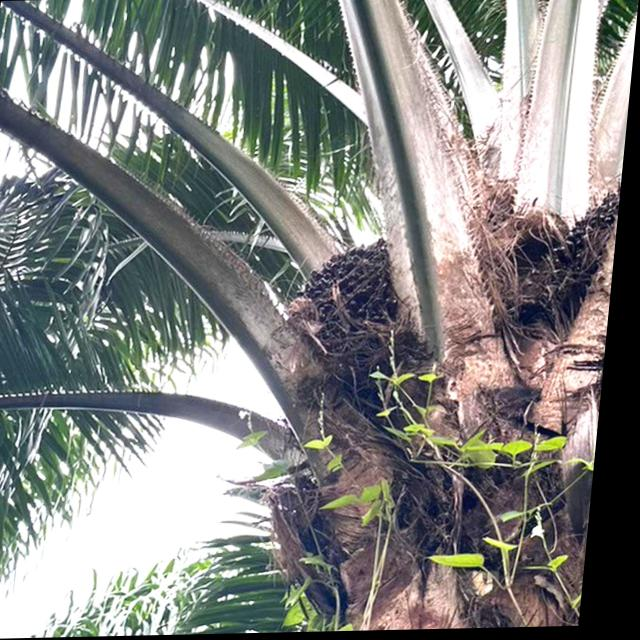ripe: (298, 232, 414, 344)
